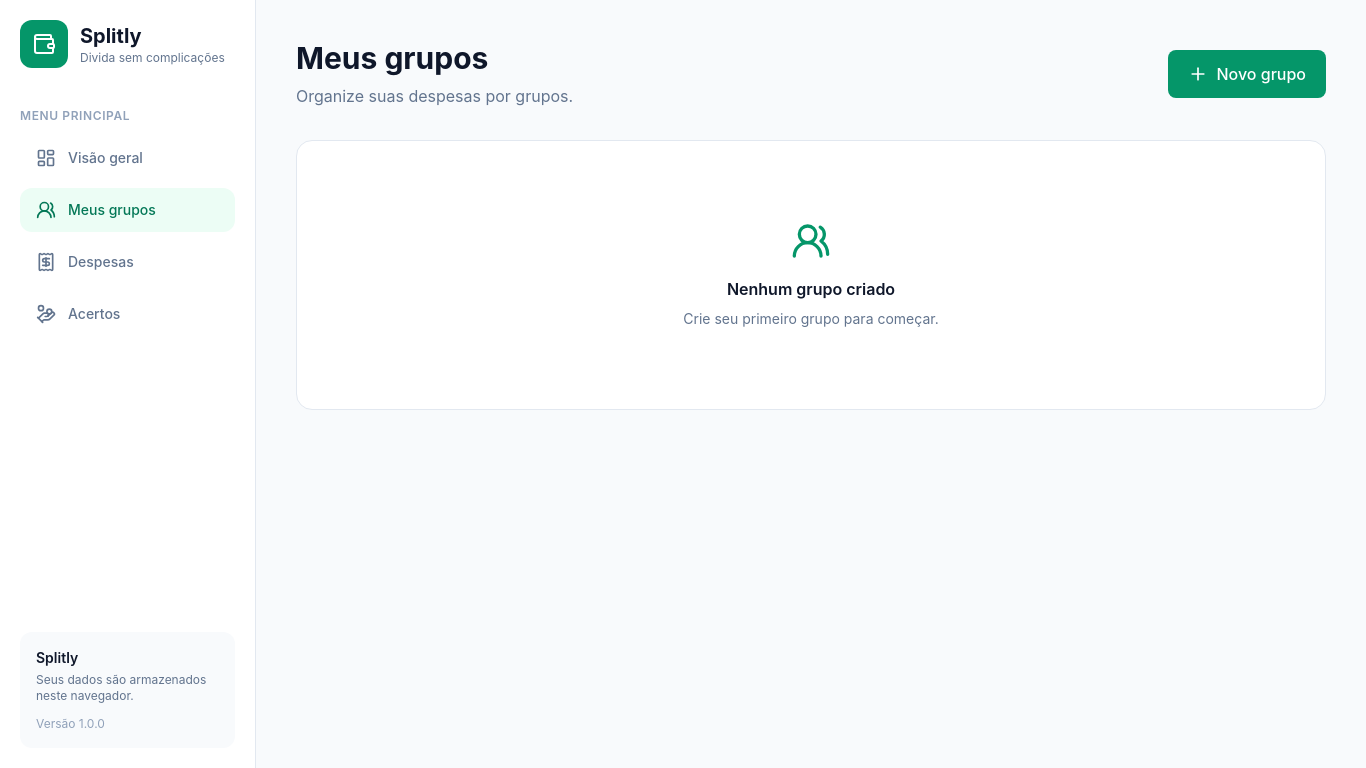
Test case: Application integration › should edit a group
Click the button "Novo grupo".
click(1247, 74)  # box [1168,50,1326,98]
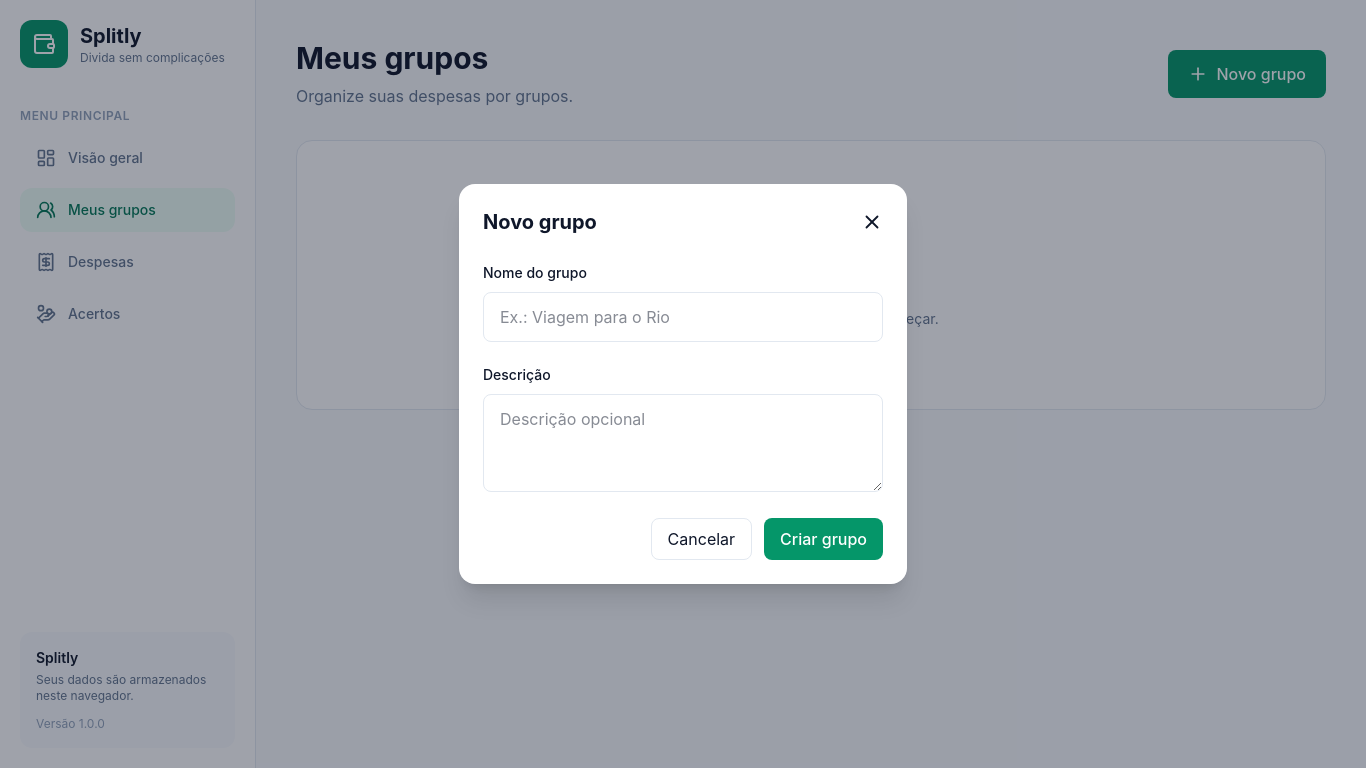
Type "Viagem" into the field labelled "Nome do grupo".
click(683, 317); type("Viagem")  # box [483,292,883,342]
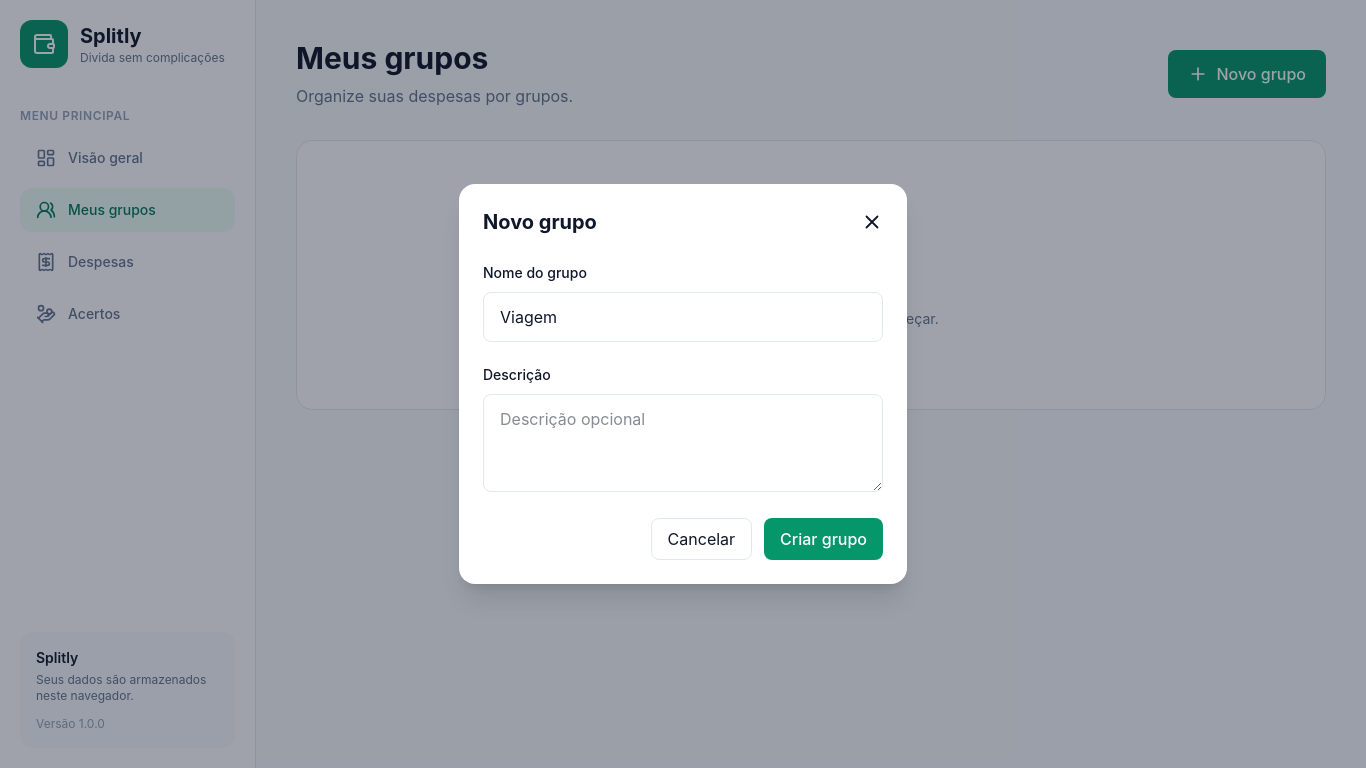
Click the button "Criar grupo".
click(824, 539)  # box [764,518,883,560]
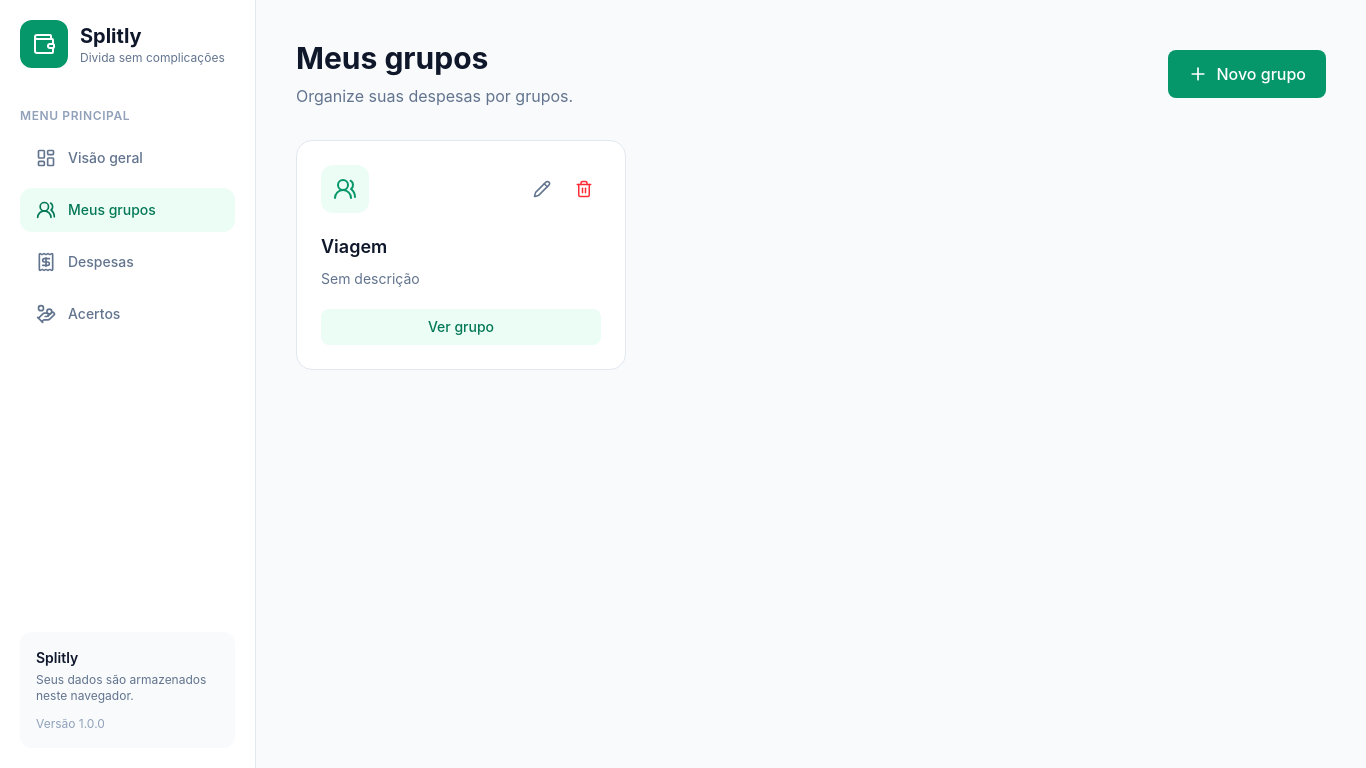
Click the button named "Editar Viagem".
click(542, 189)  # box [525,172,559,206]
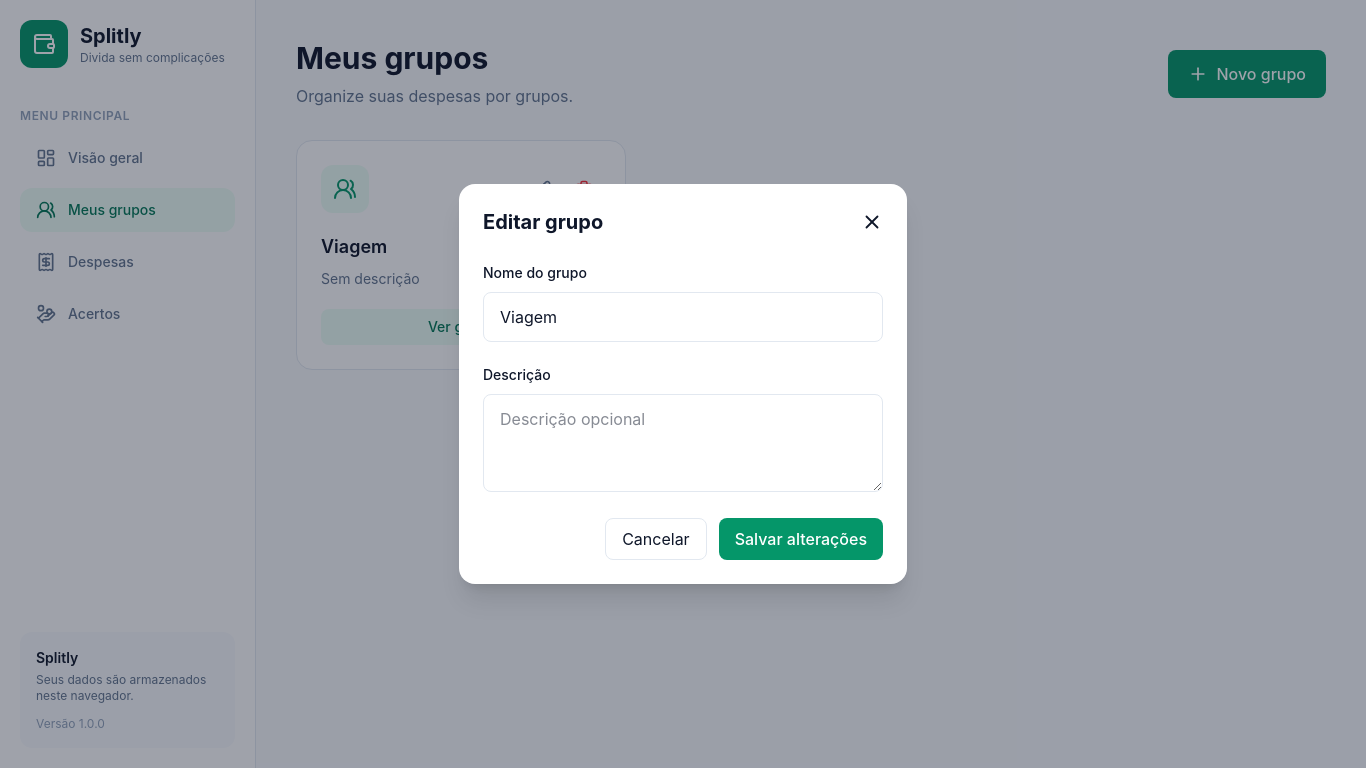
Replace the text in the field labelled "Nome do grupo" with "Férias" at (683, 317), box [483,292,883,342]
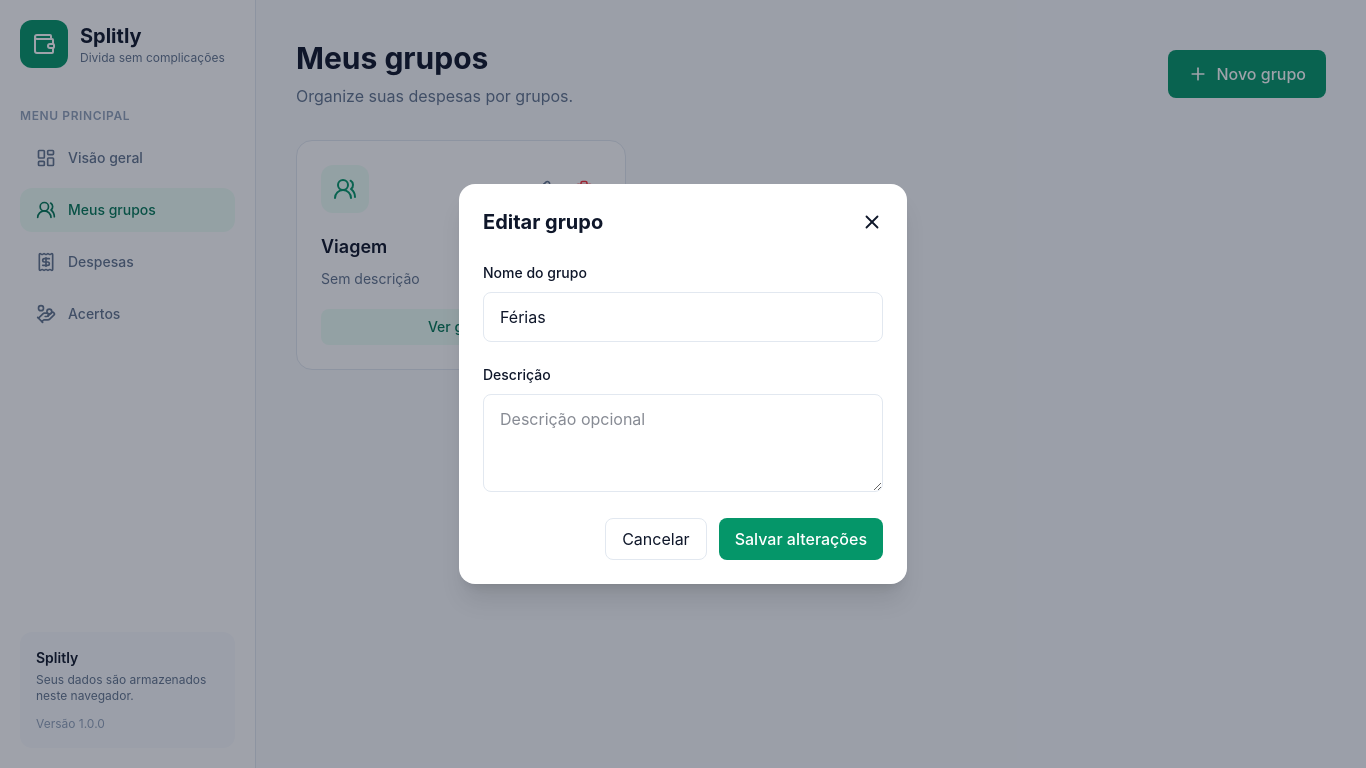
Click the button "Salvar alterações".
click(801, 539)  # box [719,518,883,560]
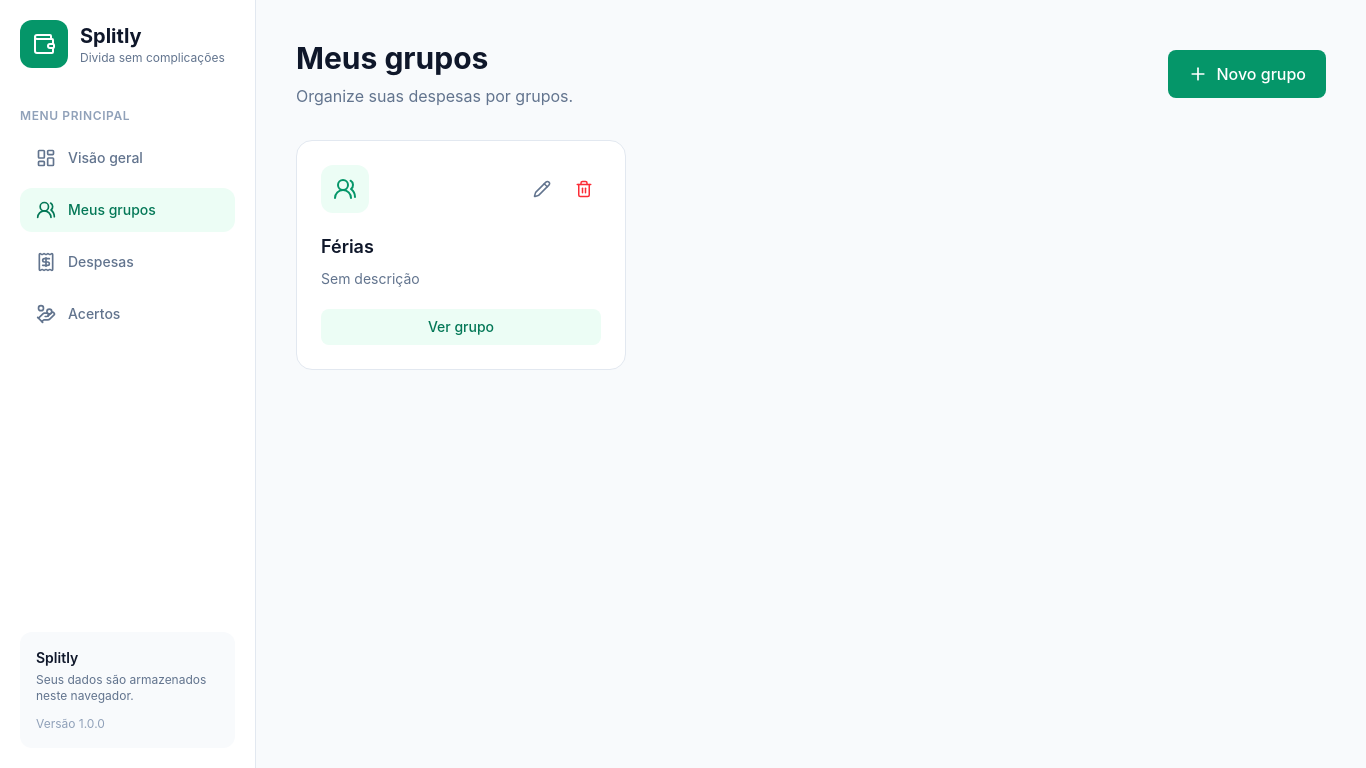
Now the heading "Férias" is shown, box [321,236,374,257]
